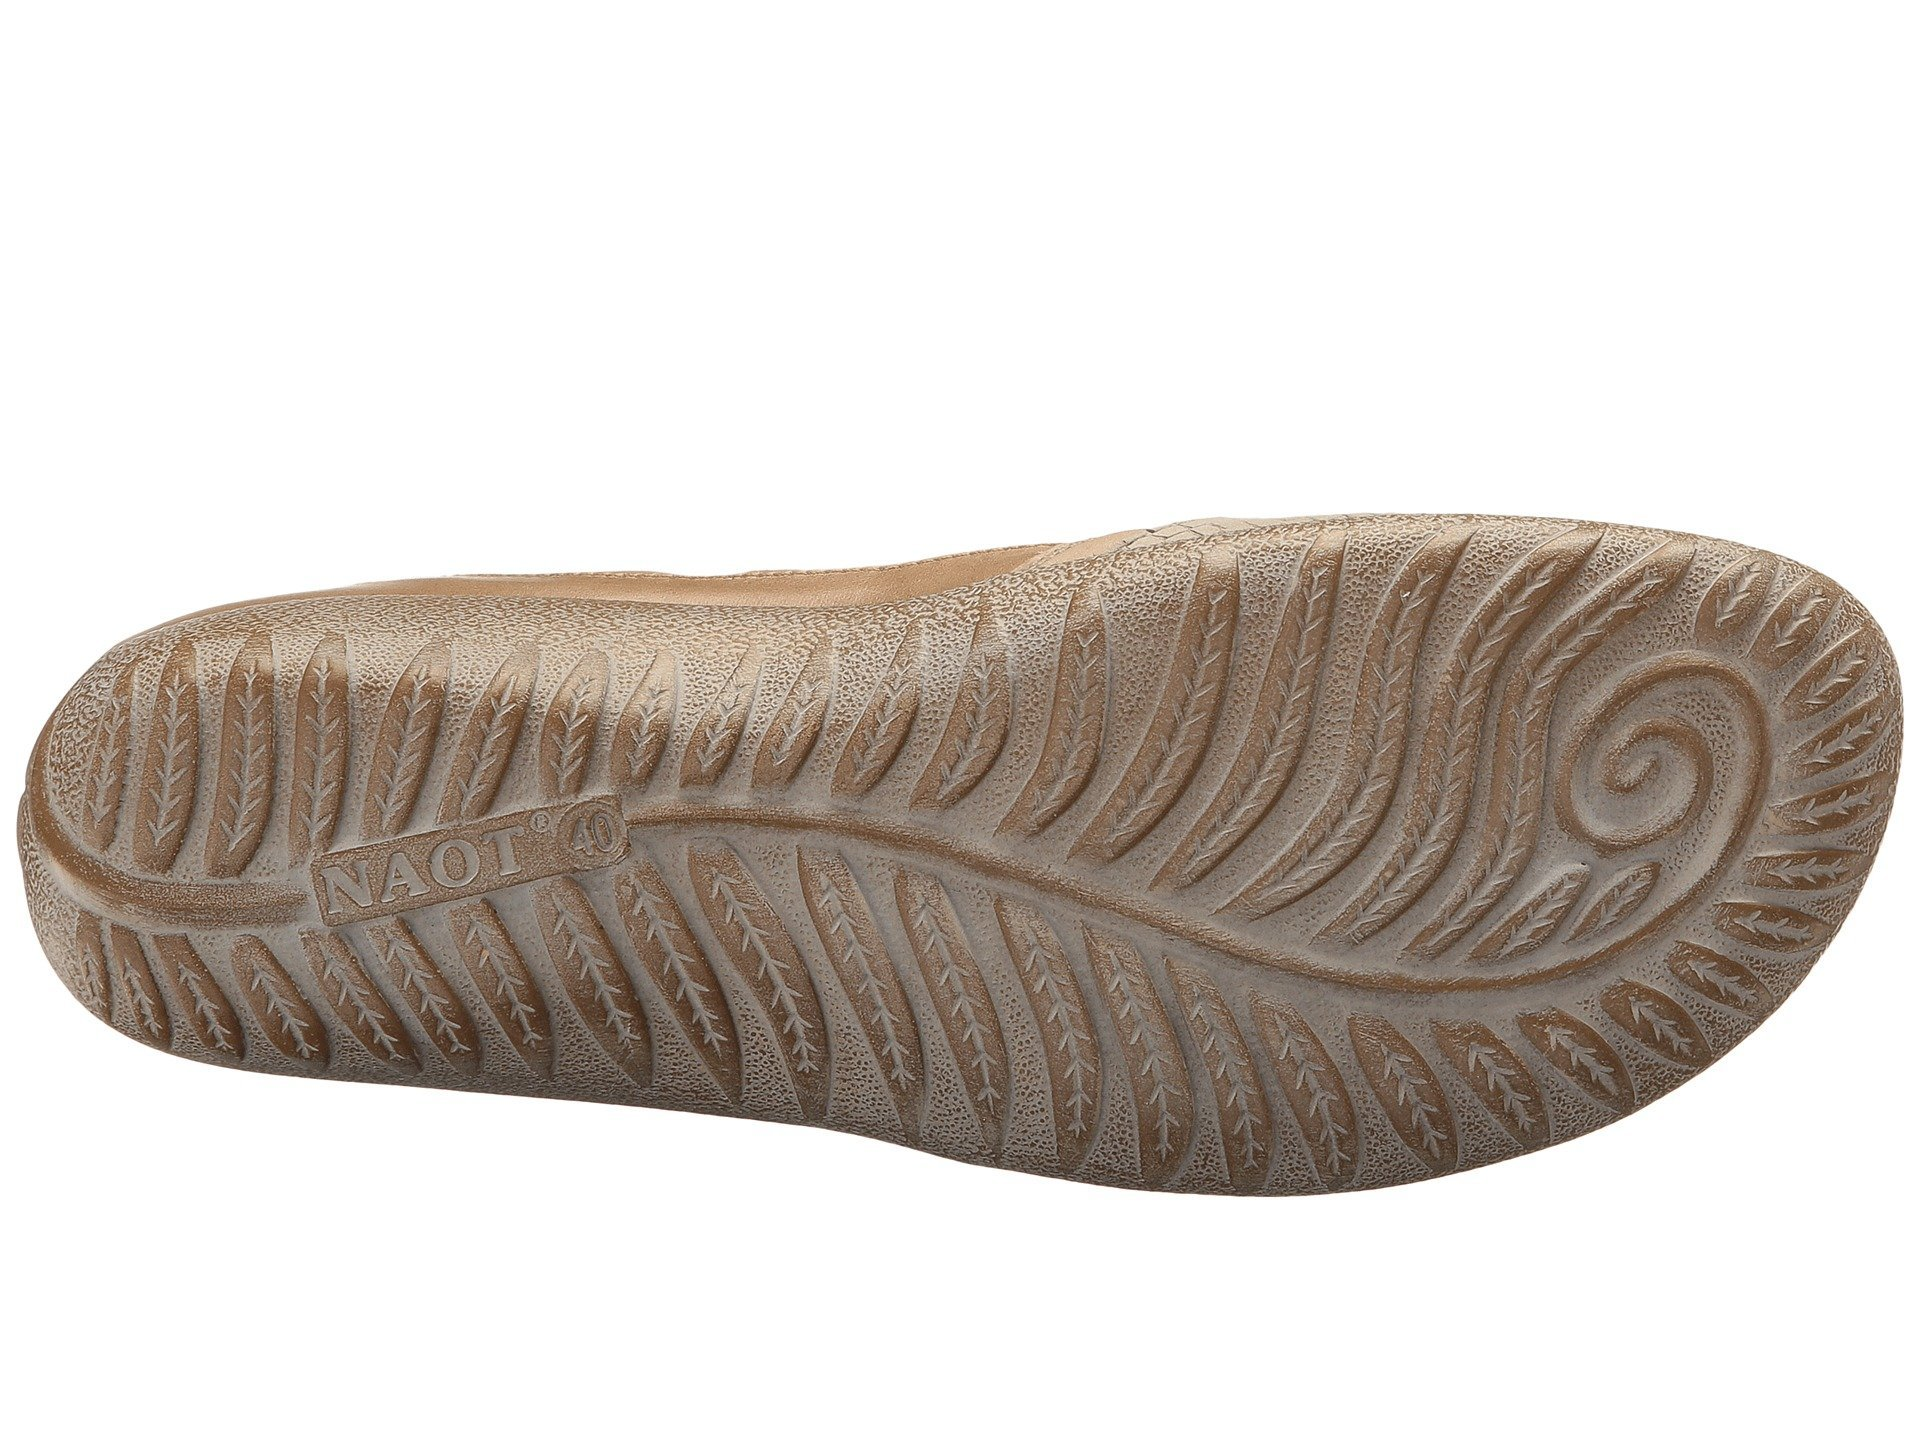circle: (302, 794, 632, 929)
exclude: (254, 510, 1116, 607)
text: (302, 794, 632, 929)
